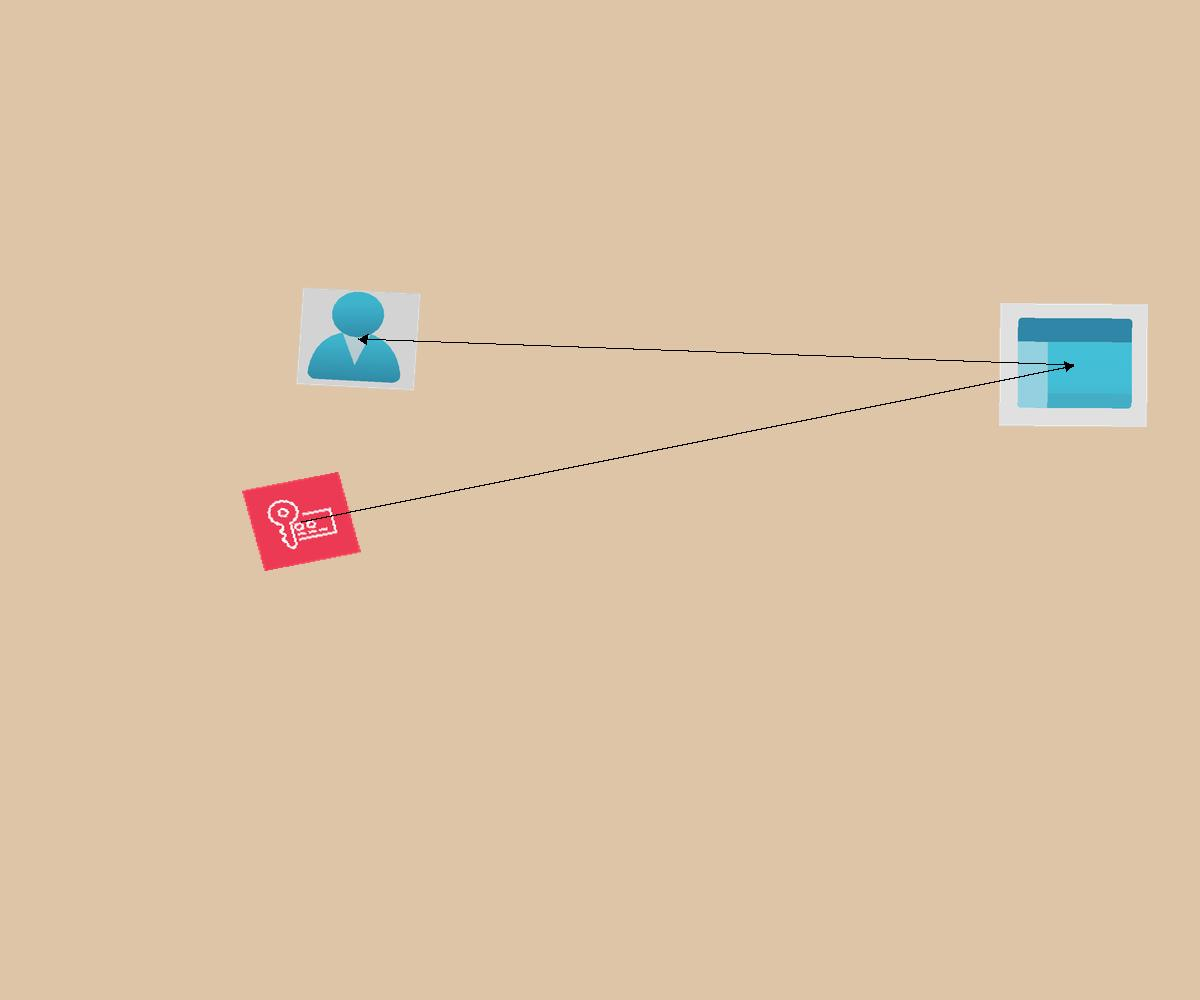AWS-Key-Management-Service: (241, 471, 362, 572)
Azure_management-portal: (999, 303, 1148, 427)
Azure_users: (296, 287, 421, 391)
